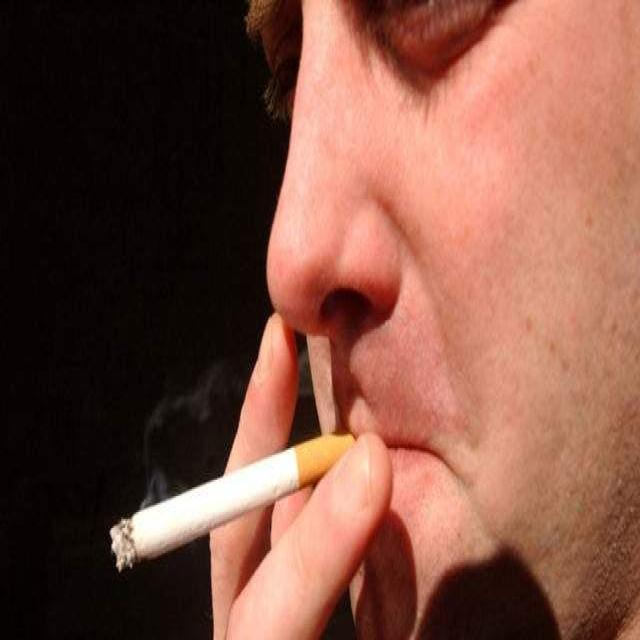Cigarette: (111, 439, 362, 570)
